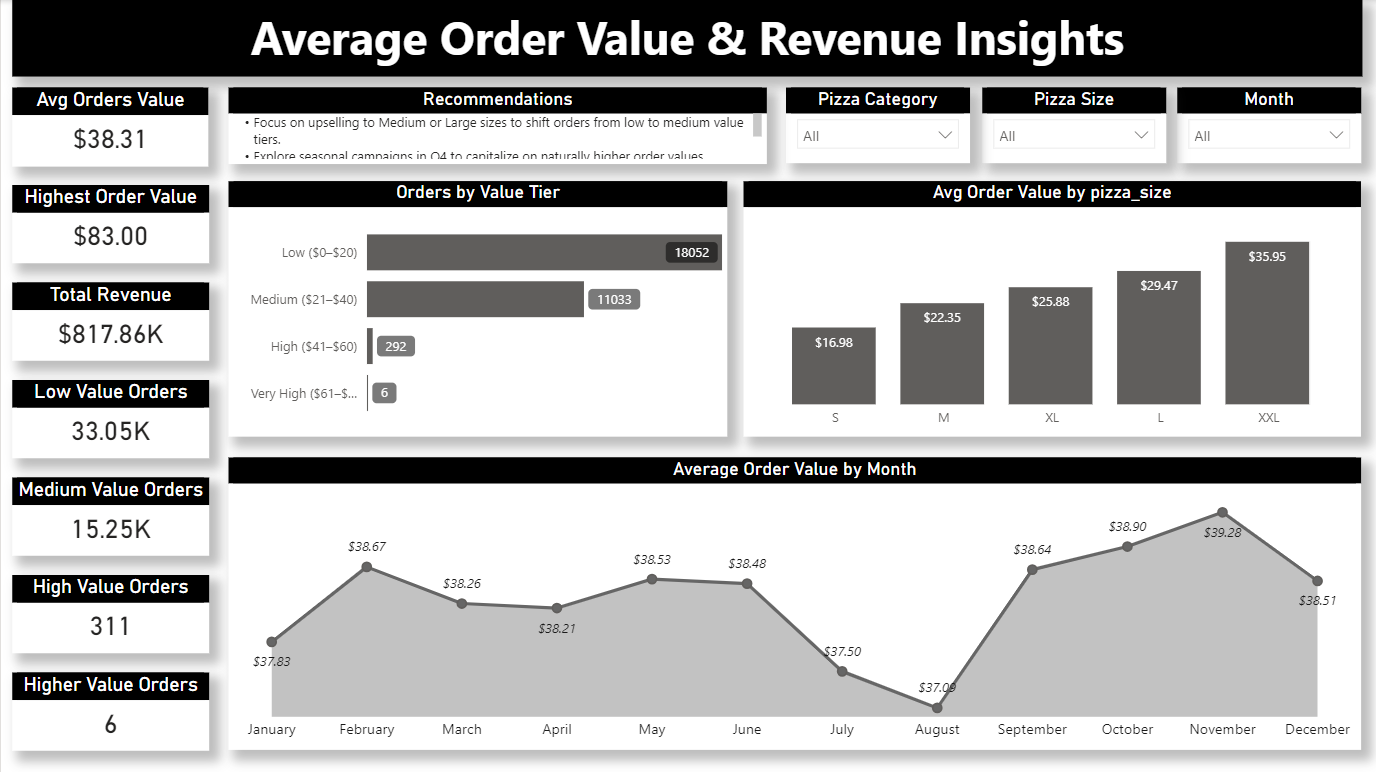

This screenshot's page, from the dashboard's own definition file:
{"tool":"powerbi","page":{"name":"Page 4","canvas":[1280,720],"ordinal":3},"visuals":[{"type":"textbox","box":[10.5,0,1255.8,70.9],"z":0},{"type":"card","title":"Avg Orders Value","fields":{"Values":["pizza.Avg Order Value"]},"box":[10.2,81.4,182.6,73.3],"z":1000},{"type":"card","title":"Highest Order Value","fields":{"Values":["Max(pizza.total_price)"]},"box":[9.9,172.2,183.2,73.1],"z":2000},{"type":"card","title":"Total Revenue","fields":{"Values":["pizza.Total Revenue"]},"box":[9.9,262.9,183.2,73.1],"z":3000},{"type":"card","title":"Low Value Orders","fields":{"Values":["pizza.Orders Low"]},"box":[9.9,353.5,183.2,73.1],"z":4000},{"type":"card","title":"Medium Value Orders","fields":{"Values":["pizza.Orders Medium"]},"box":[9.9,444.1,183.2,73],"z":5000},{"type":"card","title":"High Value Orders","fields":{"Values":["pizza.Orders High"]},"box":[10,534.7,183,73],"z":6000},{"type":"card","title":"Higher Value Orders","fields":{"Values":["pizza.Orders Very High"]},"box":[10,625.3,183,73],"z":7000},{"type":"lineChart","title":"Average Order Value by Month","fields":{"Category":["pizza.Month_Name"],"Y":["pizza.Avg Order Value"]},"box":[211.7,425.9,1053.7,272.4],"z":8000},{"type":"clusteredBarChart","title":"Orders by Value Tier","fields":{"Category":["pizza.Order Value Range"],"Y":["Count(pizza.order_id)"]},"box":[211.7,168.4,464.3,237.7],"z":9000},{"type":"columnChart","fields":{"Category":["pizza.pizza_size"],"Y":["pizza.Avg Order Value"]},"box":[690.9,168.4,574.5,237.7],"z":10000},{"type":"slicer","title":"Month","fields":{"Values":["pizza.Month_Name"]},"box":[1094.5,81.7,170.9,70.6],"z":11000},{"type":"slicer","title":"Pizza Size","fields":{"Values":["pizza.pizza_size"]},"box":[912.5,81.7,170.9,70.6],"z":12000},{"type":"slicer","title":"Pizza Category","fields":{"Values":["pizza.pizza_category"]},"box":[730.5,81.7,170.9,70.6],"z":13000},{"type":"textbox","title":"Recommendations","box":[211.6,81.4,501.2,70.9],"z":14000}]}

Visuals, with their boxes in screenshot pixels (x1, y1, x2, y2), scaled from the page's 1280x720 canvas onto the 1376x772 screenshot:
textbox: 11, 0, 1361, 76
"Avg Orders Value" card: 11, 87, 207, 166
"Highest Order Value" card: 11, 185, 208, 263
"Total Revenue" card: 11, 282, 208, 360
"Low Value Orders" card: 11, 379, 208, 457
"Medium Value Orders" card: 11, 476, 208, 554
"High Value Orders" card: 11, 573, 207, 652
"Higher Value Orders" card: 11, 670, 207, 749
"Average Order Value by Month" lineChart: 228, 457, 1360, 749
"Orders by Value Tier" clusteredBarChart: 228, 181, 727, 435
columnChart - pizza.pizza_size x pizza.Avg Order Value: 743, 181, 1360, 435
"Month" slicer: 1177, 88, 1360, 163
"Pizza Size" slicer: 981, 88, 1165, 163
"Pizza Category" slicer: 785, 88, 969, 163
"Recommendations" textbox: 227, 87, 766, 163
